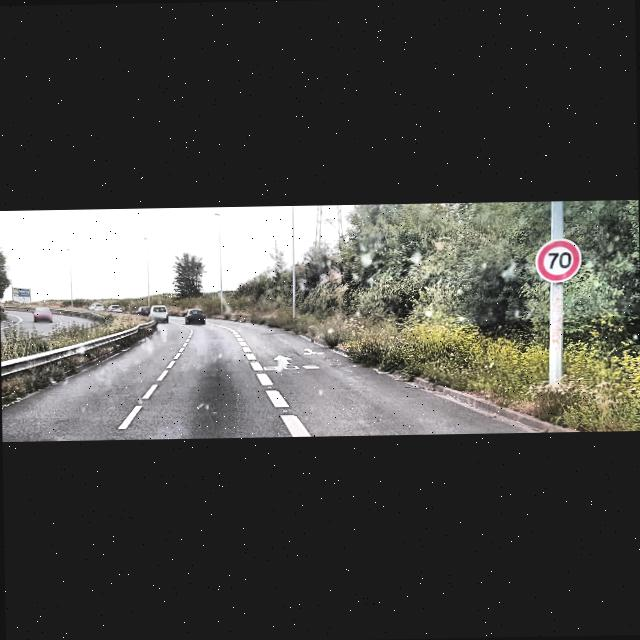speed_70: (536, 238, 580, 280)
